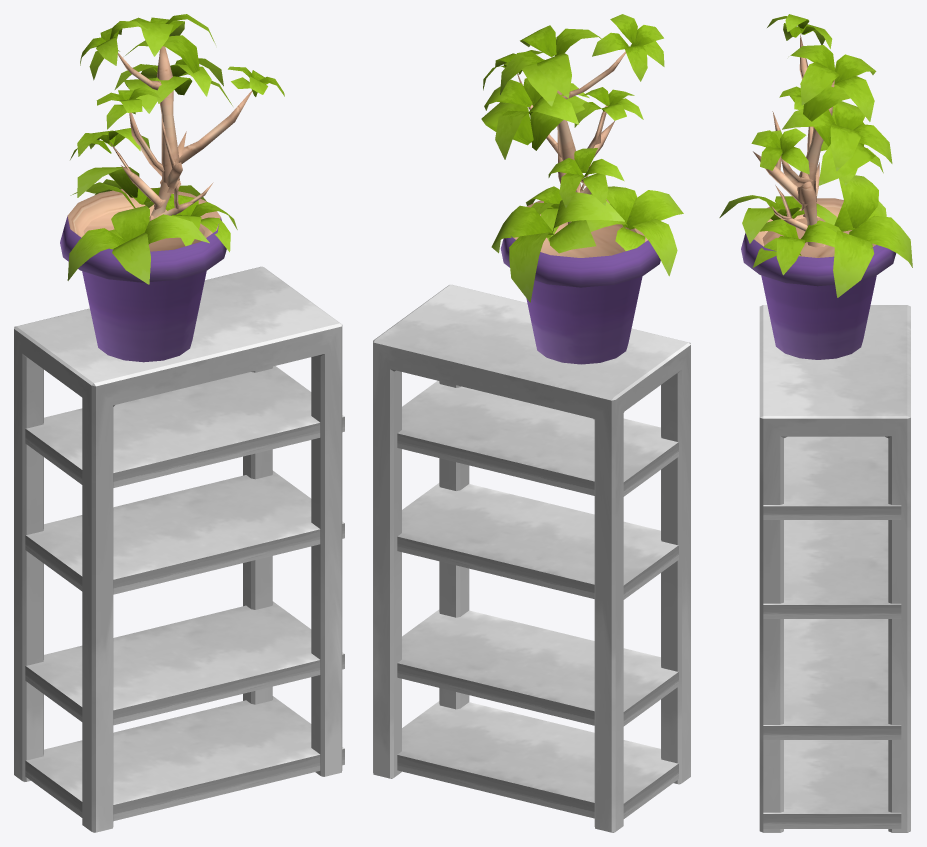
File: Obj_Shelf001.gltf
3 views of the same model, side by side, from view 1: azimuth 30°, elevation 25°; view 2: azimuth 150°, elevation 25°; view 3: azimuth 270°, elevation 25° (orthographic). The views are drawn at different scales.
Parts seen in each view (by area): view 1: Obj_Shelf001; view 2: Obj_Shelf001; view 3: Obj_Shelf001.
Part boxes in pixels (x1,y1,x2,y2): Obj_Shelf001: (14, 14, 344, 832); Obj_Shelf001: (373, 14, 690, 832); Obj_Shelf001: (719, 14, 912, 832).
Size of what is drawn, in the model's own units: 0.9084 by 2.68 by 0.6467.
2 materials, 2 textured.
